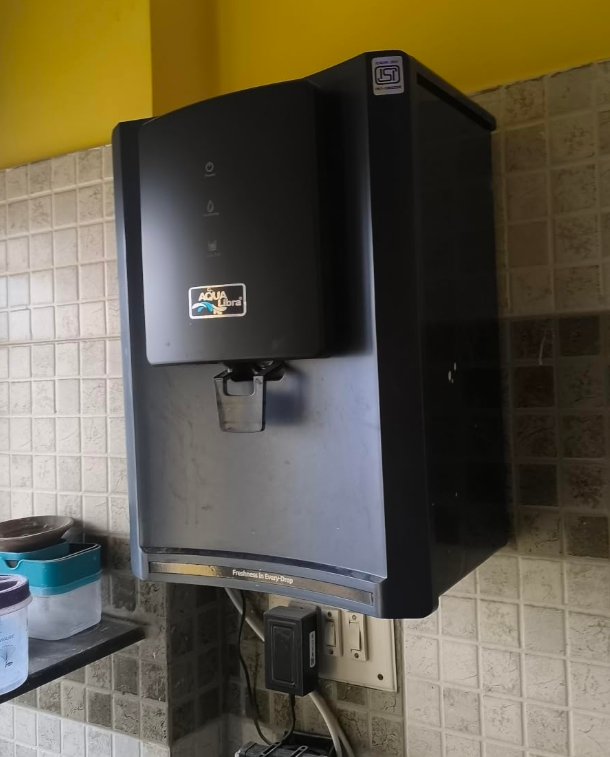water purifier: (105, 49, 523, 623)
